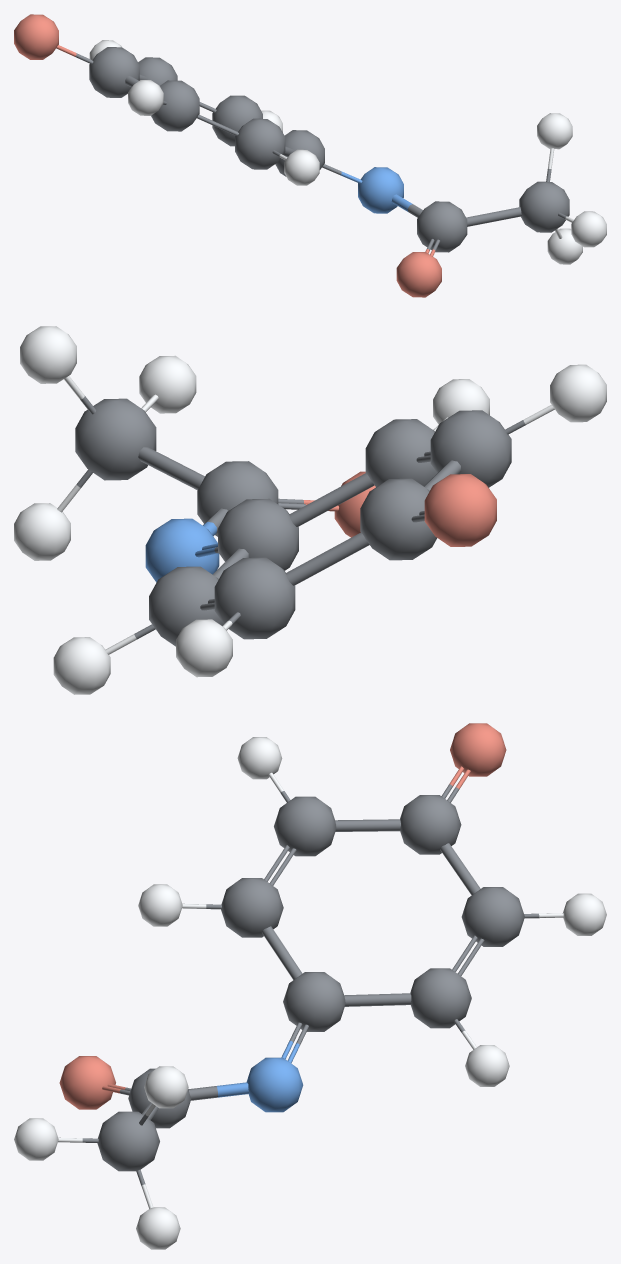
File: napqi.glb
3 renders of one model, top to bottom at view 1: azimuth 30°, elevation 25°; view 2: azimuth 150°, elevation 25°; view 3: azimuth 270°, elevation 25°, orthographic. The views are drawn at different scales.
Parts seen in each view (by area): view 1: node-geom41, node-geom37, node-geom38, node-geom43, node-geom42, node-geom47, node-geom46, node-geom39, node-geom45, node-geom50, node-geom51, node-geom48 (+5 smaller); view 2: node-geom44, node-geom37, node-geom43, node-geom42, node-geom46, node-geom40, node-geom45, node-geom41, node-geom39, node-geom38, node-geom54, node-geom52 (+9 smaller); view 3: node-geom45, node-geom42, node-geom37, node-geom44, node-geom40, node-geom41, node-geom43, node-geom39, node-geom46, node-geom47, node-geom51, node-geom48 (+9 smaller).
Part boxes in pixels (<box>): node-geom41: <box>235,118,285,169</box>; node-geom37: <box>519,181,569,232</box>; node-geom38: <box>417,201,467,252</box>; node-geom43: <box>89,47,139,97</box>; node-geom42: <box>151,80,199,131</box>; node-geom47: <box>396,252,441,297</box>; node-geom46: <box>14,14,58,59</box>; node-geom39: <box>358,167,403,213</box>; node-geom45: <box>212,95,262,146</box>; node-geom50: <box>571,211,606,247</box>; node-geom51: <box>284,149,319,185</box>; node-geom48: <box>537,113,572,149</box>; node-geom44: <box>214,557,295,639</box>; node-geom37: <box>75,398,156,480</box>; node-geom43: <box>360,478,436,560</box>; node-geom42: <box>430,410,511,487</box>; node-geom46: <box>424,474,496,546</box>; node-geom40: <box>218,498,298,570</box>; node-geom45: <box>149,566,223,646</box>; node-geom41: <box>365,419,437,486</box>; node-geom39: <box>145,518,219,582</box>; node-geom38: <box>197,461,278,536</box>; node-geom54: <box>53,637,110,694</box>; node-geom52: <box>550,364,606,422</box>; node-geom45: <box>410,968,471,1028</box>; node-geom42: <box>274,796,336,856</box>; node-geom37: <box>97,1111,159,1171</box>; node-geom44: <box>461,887,524,946</box>; node-geom40: <box>283,972,345,1031</box>; node-geom41: <box>221,878,283,937</box>; node-geom43: <box>400,795,461,854</box>; node-geom39: <box>246,1057,303,1112</box>; node-geom46: <box>450,723,506,776</box>; node-geom47: <box>59,1056,115,1109</box>; node-geom51: <box>138,884,182,926</box>; node-geom48: <box>144,1066,188,1108</box>.
Size of the model in its own units: 7.03 by 3.83 by 7.
